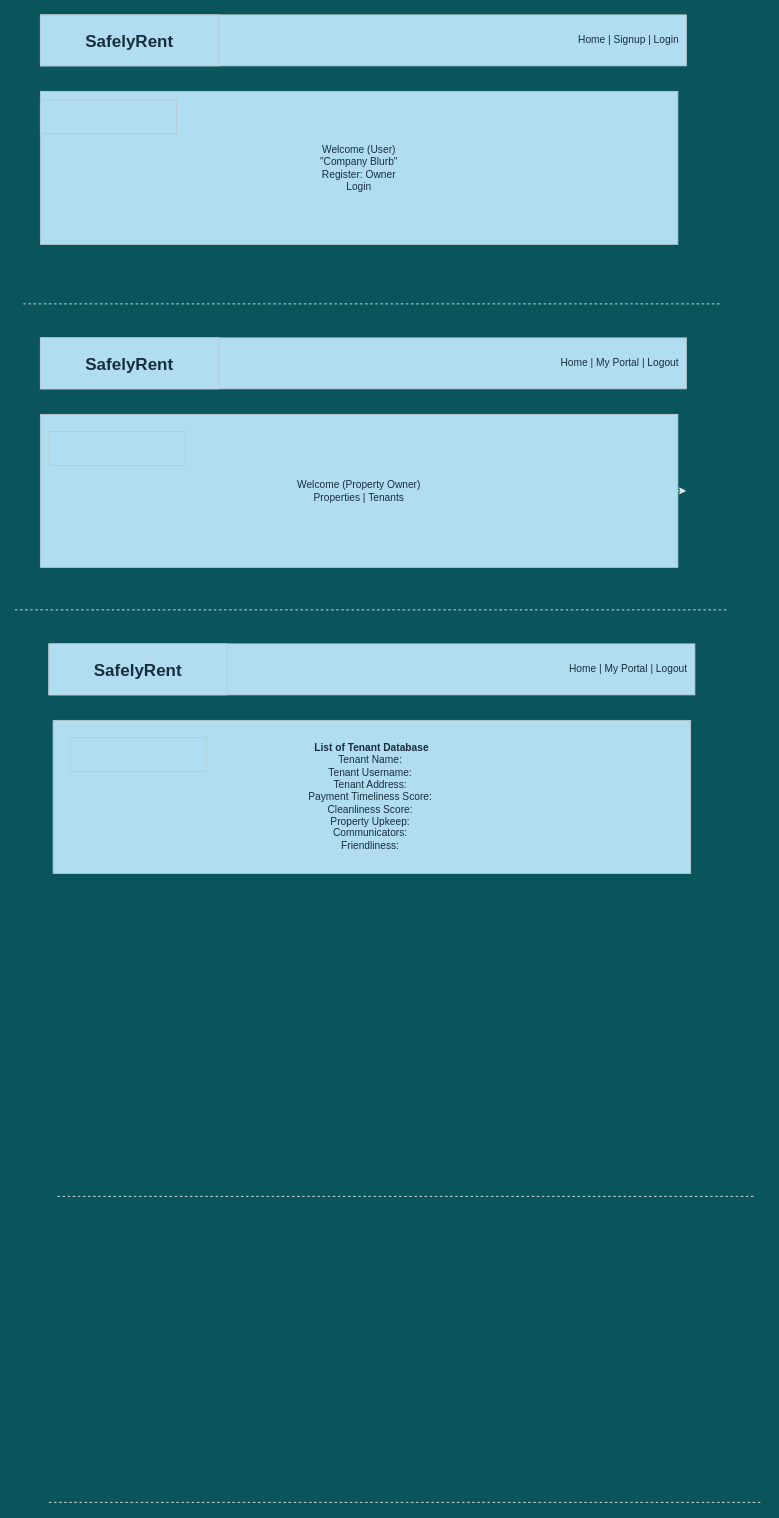
This 779x1518 diagram has some shape labels left out. Here are the shapes that lost their labels. From the top down, the centre of each, then its label:
At [108,116]: "Home".
At [116,448]: "My Portal".
At [137,754]: "My Tenants".
